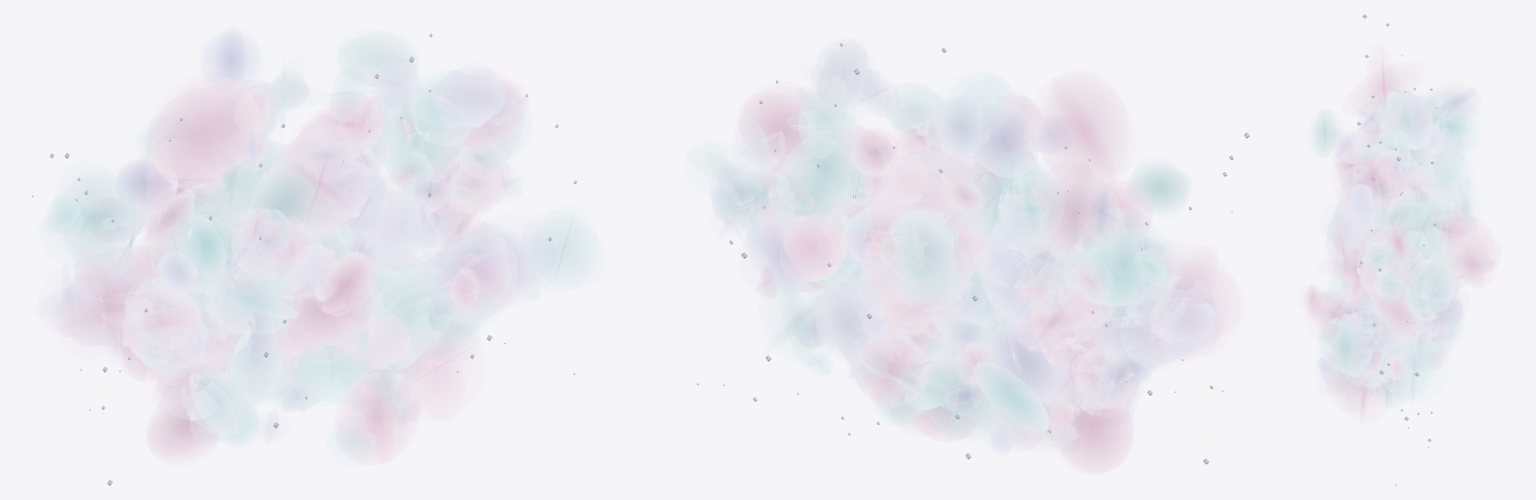
3 renders of one model, left to right at view 1: azimuth 30°, elevation 25°; view 2: azimuth 150°, elevation 25°; view 3: azimuth 270°, elevation 25°, orthographic. The views are drawn at different scales.
Bounding box in the file's own units: 6.05 × 4.59 × 2.85.
